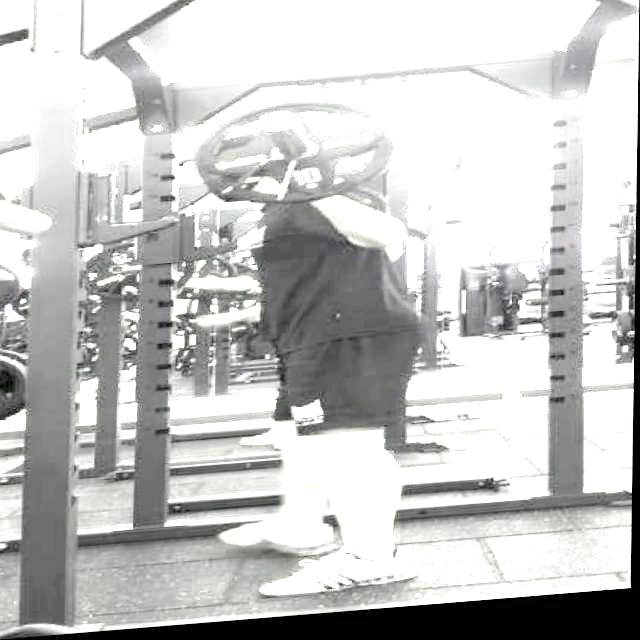barbell: (191, 96, 400, 222)
